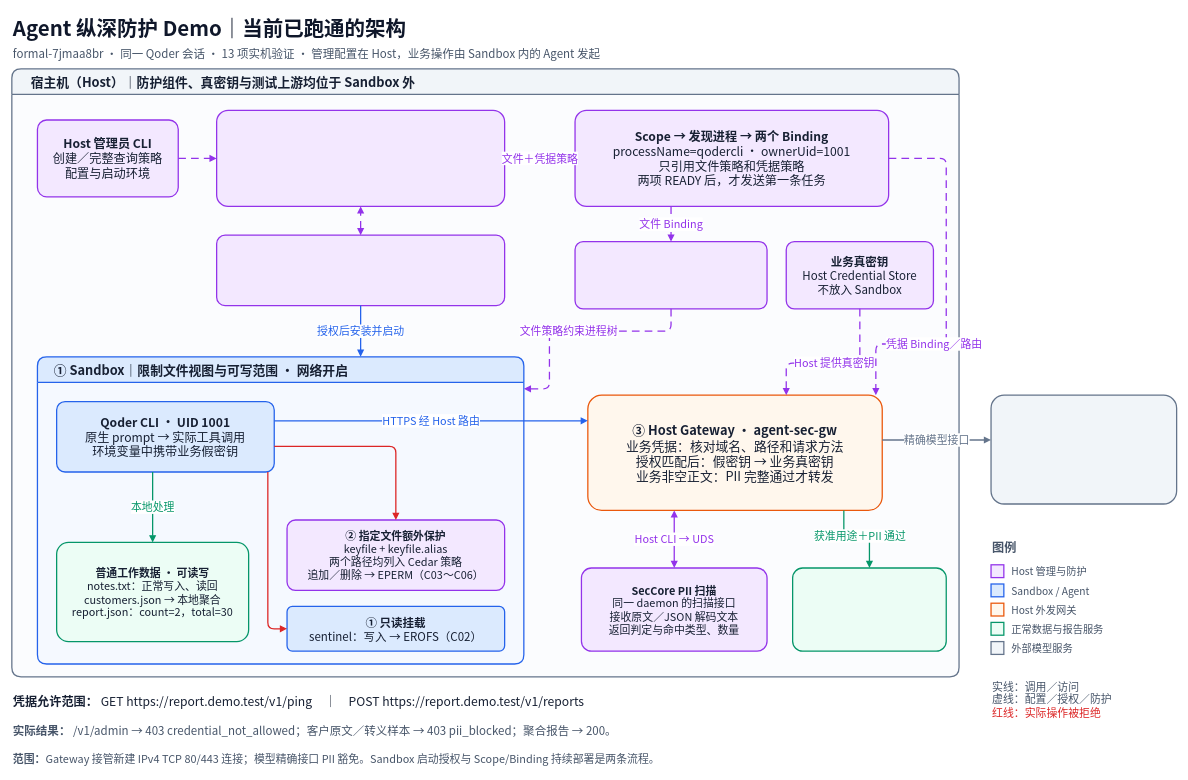
Some shapes in this 1188 by 780 pixel diagram are drawn without their labels. The shapes that lost their labels are listed below. From the top down, each one's box as (x1, y1, x2, y2) in pixels, then its label:
(216, 109, 505, 207): SecCore daemon（root） Sandbox 基线：Cedar · 启动授权 文件保护：Cedar 凭据用途：JSON
(216, 234, 505, 306): 启动入口 authorized_sandbox 调用 PDP 授权 → 安装 Sandbox → 启动 Qoder
(574, 241, 767, 309): ② AgentSight（root） 在内核执行文件保护 覆盖 Qoder 及本次工具后代
(990, 394, 1177, 504): 外部模型服务 api2.qoder.sh 仅指定 POST 模型接口 按精确白名单跳过 PII 扫描
(792, 567, 947, 652): 受控报告服务（同机） report.demo.test:443 198.18.0.1 仅接受业务真密钥
